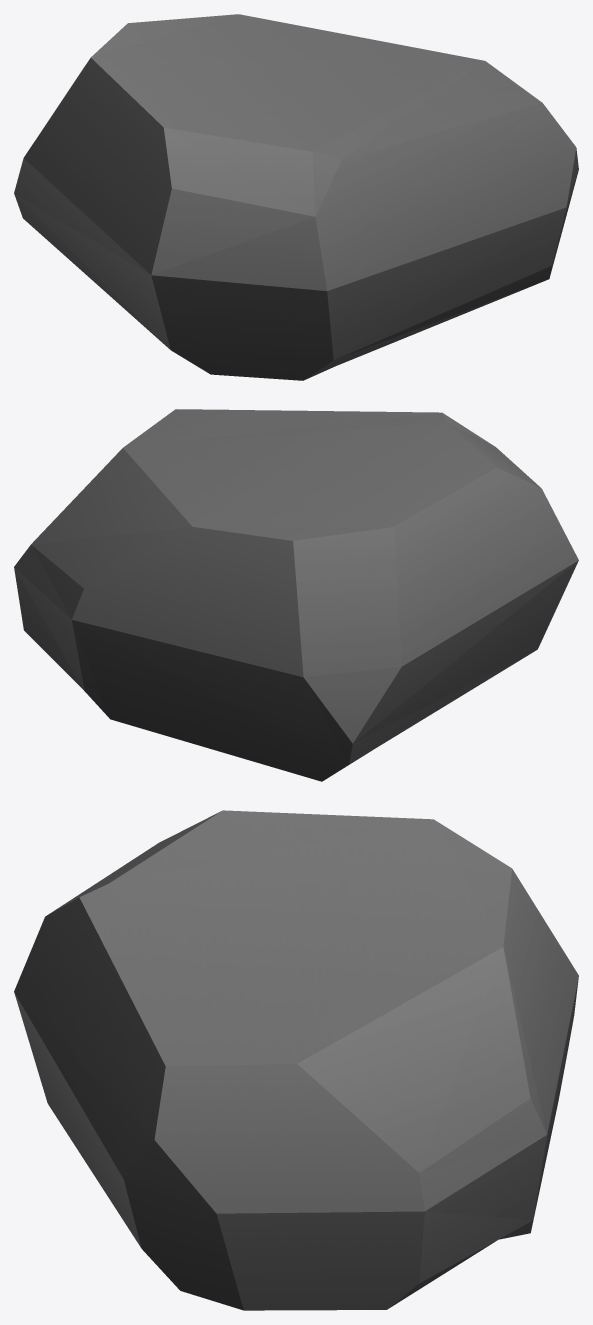
Rendered from Jungle_Rock_Large_D.fbx.
The picture shows the model from 3 angles, top to bottom: view 1: azimuth 30°, elevation 25°; view 2: azimuth 150°, elevation 25°; view 3: azimuth 270°, elevation 25°; orthographic projection. The views are drawn at different scales.
Parts seen in each view (by area): view 1: Jungle_Rock_Large_D; view 2: Jungle_Rock_Large_D; view 3: Jungle_Rock_Large_D.
Part boxes in pixels (x1,y1,x2,y2): Jungle_Rock_Large_D: (14,14,578,380); Jungle_Rock_Large_D: (14,409,578,781); Jungle_Rock_Large_D: (14,810,578,1310).
Size of the model in its own units: 2.89 by 1.37 by 2.6.
